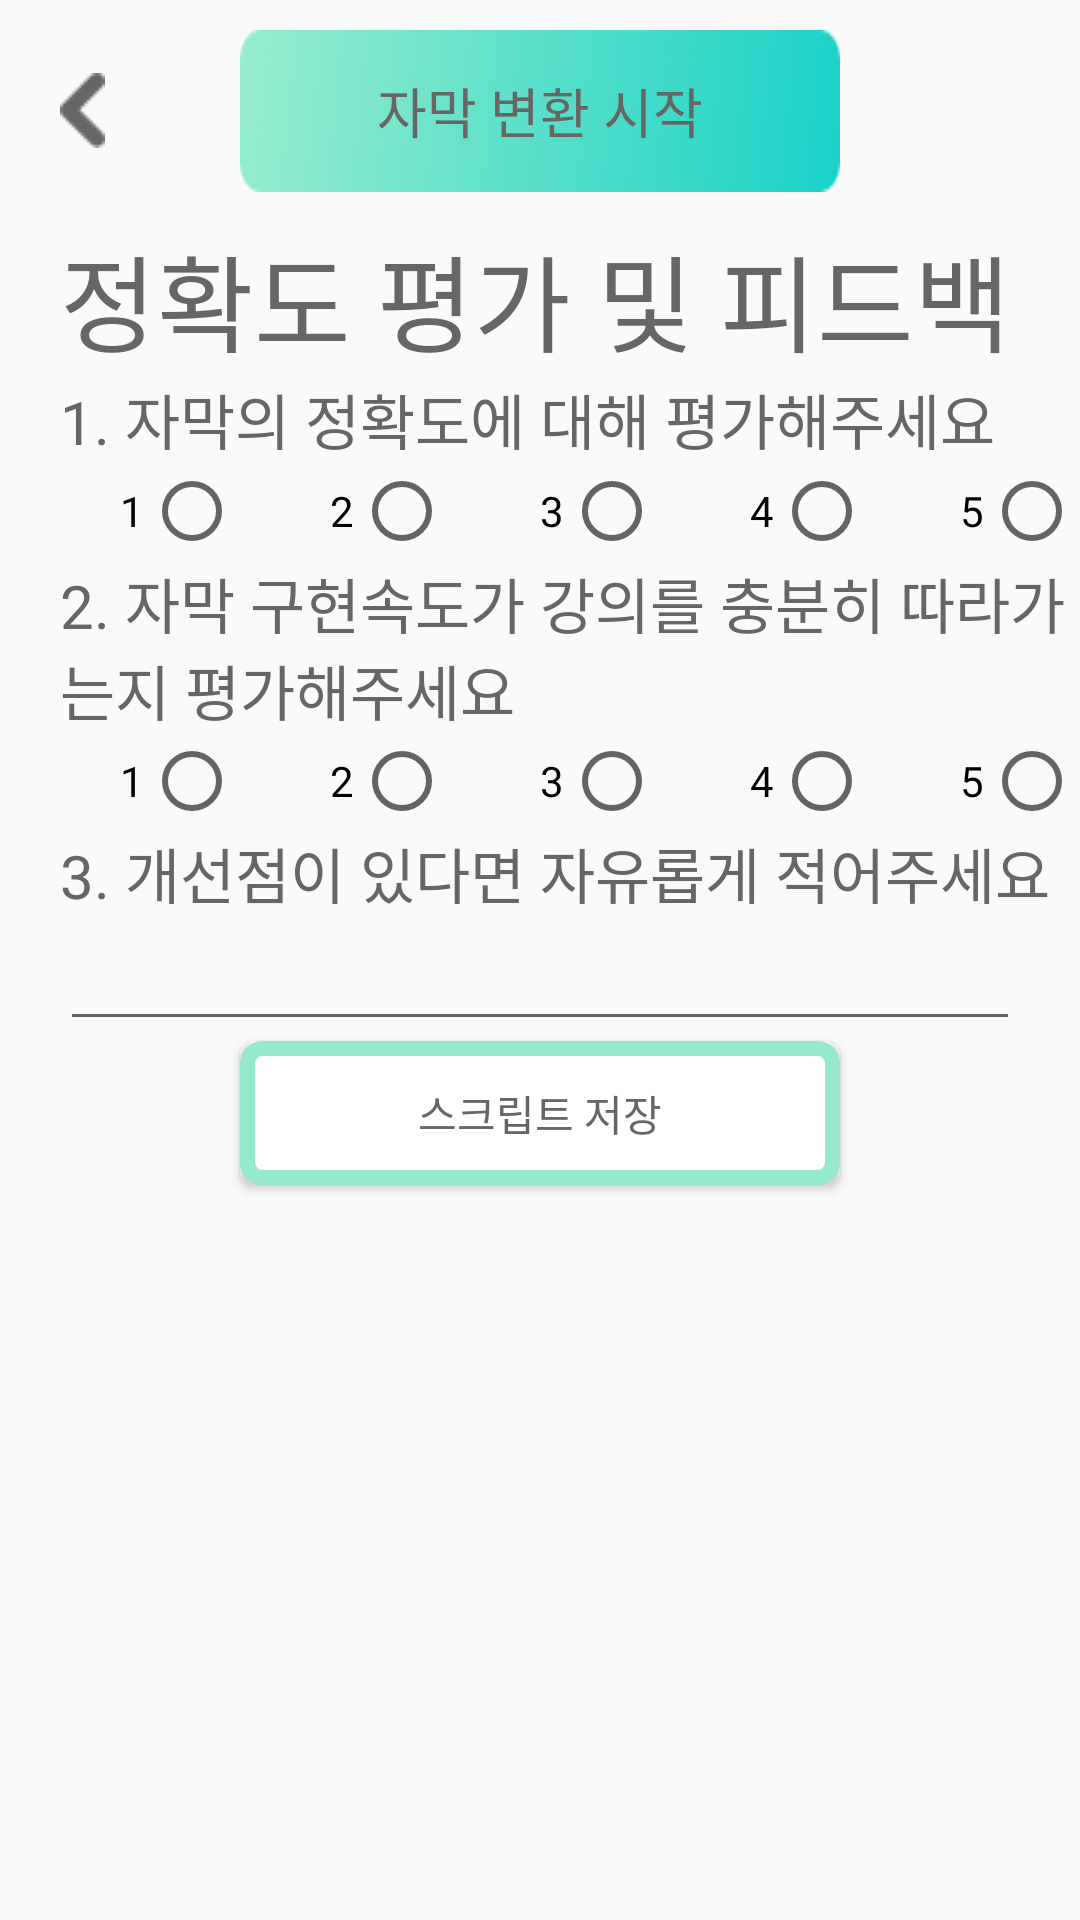

Where icons sit on this 1080×1920 app screen, as {"left": x1, "top": y1, "right": x2, "bottom": y2}:
back: {"left": 60, "top": 73, "right": 105, "bottom": 148}
